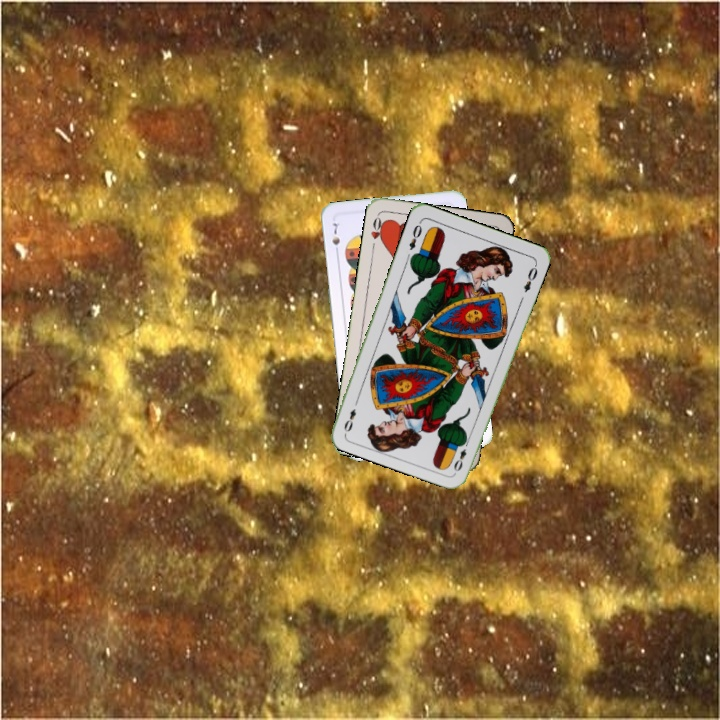EO: (450, 435, 472, 474), (405, 217, 425, 253)
HO: (367, 211, 388, 252)
S7: (328, 217, 343, 257)
